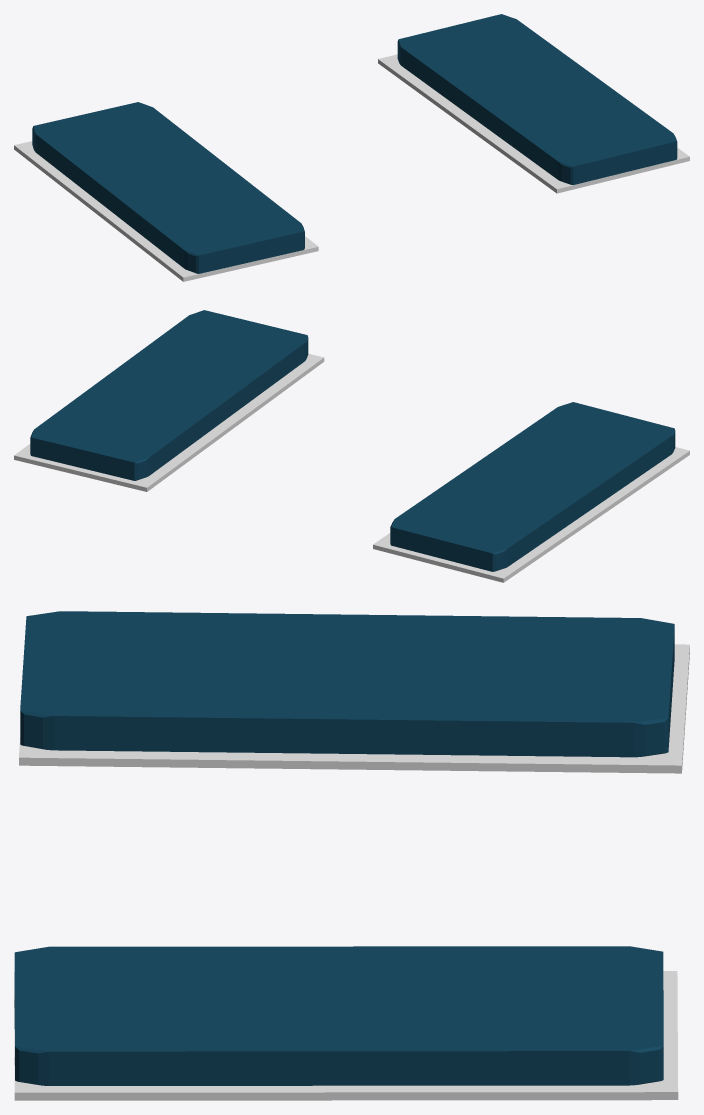
Rendered from DoubleMatt.glb.
3 views of the same model, one above another, from view 1: azimuth 30°, elevation 25°; view 2: azimuth 150°, elevation 25°; view 3: azimuth 270°, elevation 25° (orthographic). The views are drawn at different scales.
Parts seen in each view (by area): view 1: Mattress.001, Mattress, Metal Frame.001, Metal Frame; view 2: Mattress, Mattress.001, Metal Frame.001, Metal Frame; view 3: Mattress, Mattress.001, Metal Frame, Metal Frame.001.
Part boxes in pixels (left/top/right/bottom): Mattress.001: left=397, top=14, right=677, bottom=184; Mattress: left=32, top=102, right=304, bottom=273; Metal Frame.001: left=378, top=54, right=689, bottom=193; Metal Frame: left=14, top=141, right=318, bottom=281; Mattress: left=390, top=402, right=675, bottom=571; Mattress.001: left=30, top=310, right=308, bottom=480; Metal Frame.001: left=14, top=353, right=324, bottom=491; Metal Frame: left=373, top=447, right=689, bottom=582; Mattress: left=20, top=611, right=674, bottom=757; Mattress.001: left=14, top=946, right=663, bottom=1085; Metal Frame: left=19, top=644, right=689, bottom=773; Metal Frame.001: left=14, top=971, right=678, bottom=1100.
Size of the model in its own units: 7.02 by 0.3119 by 4.39.
